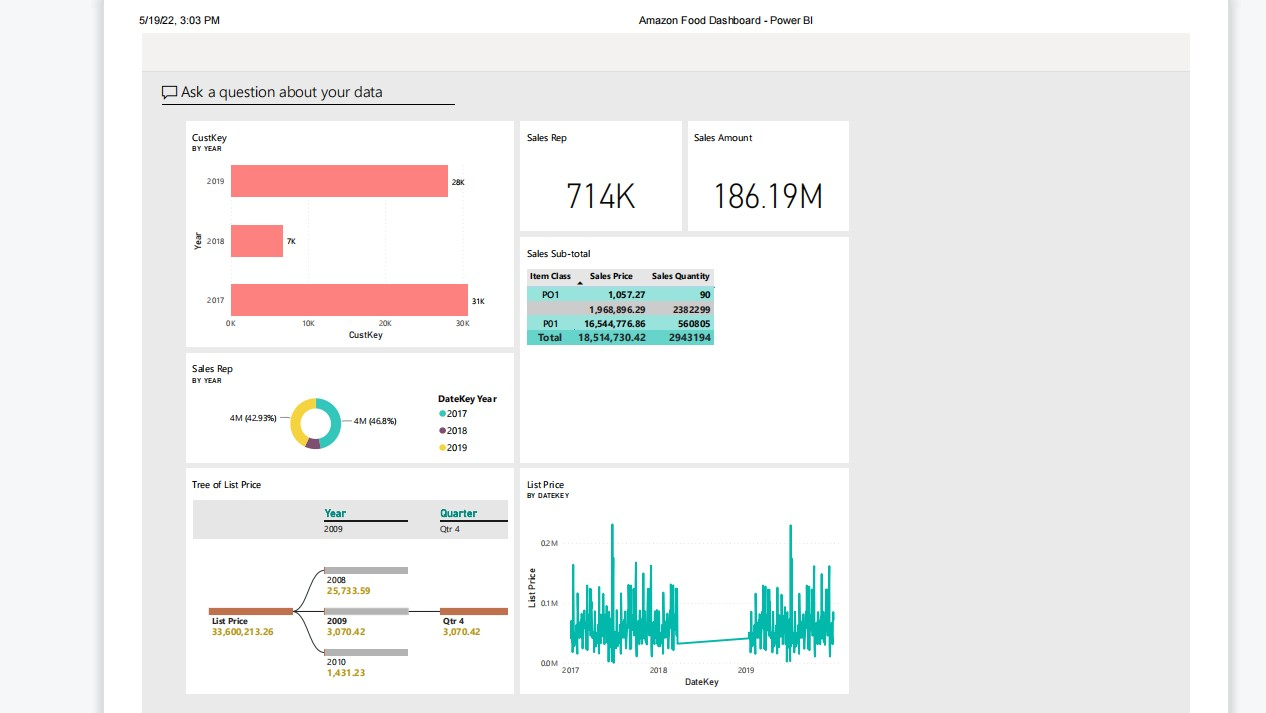

The page's visual inventory and layout, read from the dashboard file:
{"tool":"powerbi","page":{"name":"Page 1","canvas":[1280,720],"ordinal":0},"visuals":[{"type":"barChart","fields":{"Category":["AmazonFoodCategory_1 Dataset.DateKey.Variation.Date Hierarchy.Year","AmazonFoodCategory_1 Dataset.DateKey.Variation.Date Hierarchy.Quarter","AmazonFoodCategory_1 Dataset.DateKey.Variation.Date Hierarchy.Month","AmazonFoodCategory_1 Dataset.DateKey.Variation.Date Hierarchy.Day"],"Y":["CountNonNull(AmazonFoodCategory_1 Dataset.CustKey)"]},"box":[0,0,424.8,360],"z":0},{"type":"clusteredBarChart","fields":{"Y":["Sum(AmazonFoodCategory_1 Dataset.Discount Amount)"],"Category":["AmazonFoodCategory_1 Dataset.Item"]},"box":[424.8,0,855.4,360],"z":1000},{"type":"pivotTable","title":"Sales Sub-total","fields":{"Rows":["AmazonFoodCategory_1 Dataset.Item Class"],"Values":["Sum(AmazonFoodCategory_1 Dataset.Sales Price)","Sum(AmazonFoodCategory_1 Dataset.Sales Quantity)"]},"box":[0,360,385.9,129.6],"z":2000},{"type":"decompositionTreeVisual","title":"Tree of List Price","fields":{"ExplainBy":["AmazonFoodCategory_1 Dataset.Promised Delivery Date.Variation.Date Hierarchy.Year","AmazonFoodCategory_1 Dataset.Promised Delivery Date.Variation.Date Hierarchy.Quarter","AmazonFoodCategory_1 Dataset.Promised Delivery Date.Variation.Date Hierarchy.Day","AmazonFoodCategory_1 Dataset.Promised Delivery Date.Variation.Date Hierarchy.Month"],"Analyze":["Sum(AmazonFoodCategory_1 Dataset.List Price)"]},"box":[385.9,360,894.2,360],"z":3000},{"type":"donutChart","fields":{"Category":["AmazonFoodCategory_1 Dataset.DateKey.Variation.Date Hierarchy.Year","AmazonFoodCategory_1 Dataset.DateKey.Variation.Date Hierarchy.Quarter","AmazonFoodCategory_1 Dataset.DateKey.Variation.Date Hierarchy.Month","AmazonFoodCategory_1 Dataset.DateKey.Variation.Date Hierarchy.Day"],"Y":["Sum(AmazonFoodCategory_1 Dataset.Sales Rep)"]},"box":[0,489.6,385.9,230.4],"z":4000}]}

Visuals, with their boxes on the page's 1280x720 design canvas (x1, y1, x2, y2). These are canvas units, not pixel positions in the 1266x713 screenshot, which may show the page scaled, cropped or inside an application window:
barChart - AmazonFoodCategory_1 Dataset.DateKey.Variation.Date Hierarchy.Year x AmazonFoodCategory_1 Dataset.DateKey.Variation.Date Hierarchy.Quarter: 0/0/425/360
clusteredBarChart - Sum(AmazonFoodCategory_1 Dataset.Discount Amount) x AmazonFoodCategory_1 Dataset.Item: 425/0/1280/360
"Sales Sub-total" pivotTable: 0/360/386/490
"Tree of List Price" decompositionTreeVisual: 386/360/1280/720
donutChart - AmazonFoodCategory_1 Dataset.DateKey.Variation.Date Hierarchy.Year x AmazonFoodCategory_1 Dataset.DateKey.Variation.Date Hierarchy.Quarter: 0/490/386/720
